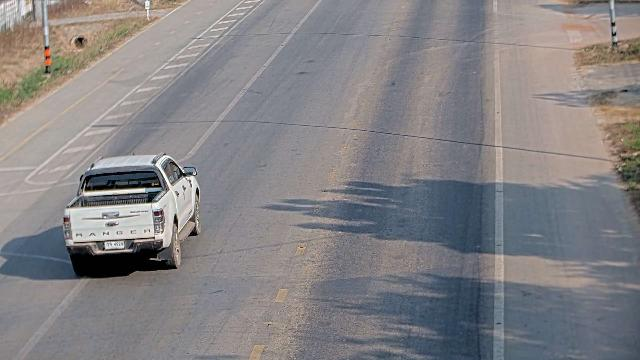pickup-truck: (61, 151, 202, 275)
